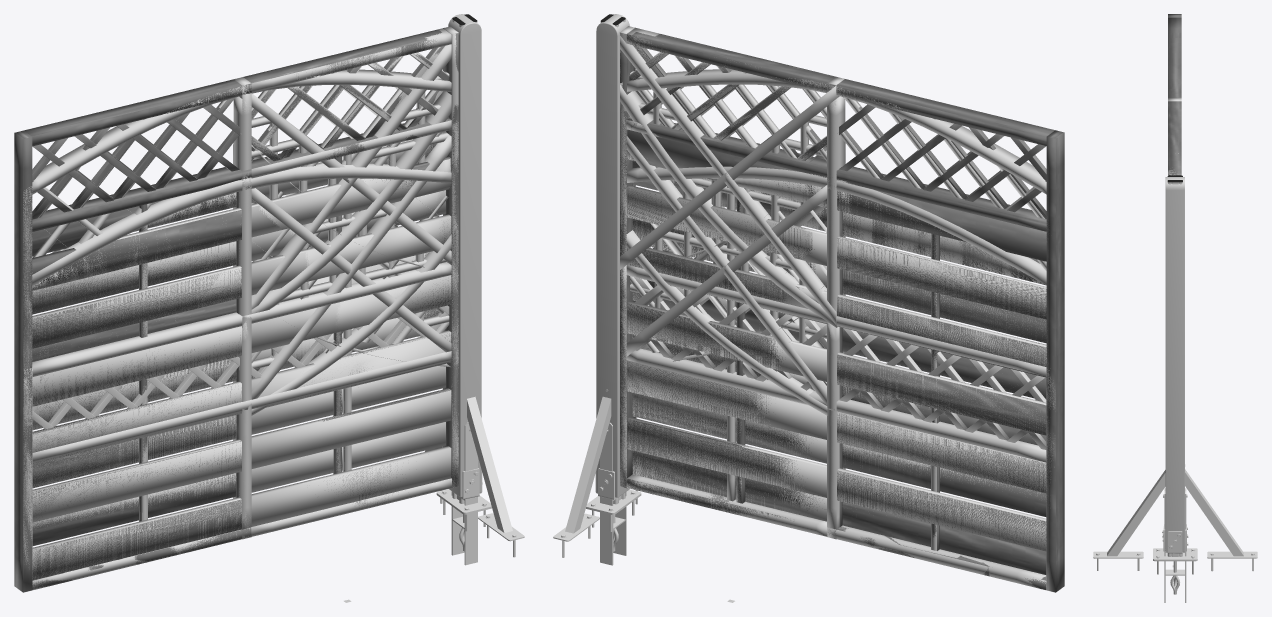
The model's file is mailCombo13.glb.
3 views of the same model, side by side, from view 1: azimuth 30°, elevation 25°; view 2: azimuth 150°, elevation 25°; view 3: azimuth 270°, elevation 25° (orthographic). The views are drawn at different scales.
Parts seen in each view (by area): view 1: Sealing 180x180, Sealing 180x180 kriva, Sealing 90x180, Sealing 180x90, Sealing kosa desna, Sealingkosa leva, stubić Sina, Sealing kosa leva kriva, sturmanker-right-front, Nosač Stubića Sina, Sealing kosa desna kriva, post-root-right; view 2: Sealing 180x180, Sealing 180x180 kriva, Sealing 180x90, Sealing kosa desna, Sealingkosa leva, stubić Sina, Sealing kosa leva kriva, Sealing 90x180, sturmanker-right-rear, Nosač Stubića Sina, Sealing kosa desna kriva, post-root-right; view 3: stubić Sina, Sealing 180x180, sturmanker-right-rear, sturmanker-right-front, Nosač Stubića Sina, post-root-right, NosacBoth.
Part boxes in pixels (box(x1,y1,x2,y2)): Sealing 180x180: box(14, 28, 458, 592); Sealing 180x180 kriva: box(23, 69, 458, 584); Sealing 90x180: box(234, 26, 458, 536); Sealing 180x90: box(23, 262, 458, 589); Sealing kosa desna: box(233, 93, 458, 538); Sealingkosa leva: box(242, 44, 458, 602); stubić Sina: box(448, 14, 481, 497); Sealing kosa leva kriva: box(233, 91, 458, 537); sturmanker-right-front: box(467, 396, 524, 557); Nosač Stubića Sina: box(451, 422, 477, 565); Sealing kosa desna kriva: box(233, 143, 450, 498); post-root-right: box(436, 489, 491, 531); Sealing 180x180: box(620, 27, 1064, 592); Sealing 180x180 kriva: box(620, 69, 1048, 588); Sealing 180x90: box(620, 265, 1055, 589); Sealing kosa desna: box(620, 86, 845, 538); Sealingkosa leva: box(620, 35, 836, 602); stubić Sina: box(596, 14, 629, 497); Sealing kosa leva kriva: box(620, 84, 845, 537); Sealing 90x180: box(620, 26, 844, 538); sturmanker-right-rear: box(553, 389, 611, 557); Nosač Stubića Sina: box(600, 422, 626, 565); Sealing kosa desna kriva: box(628, 133, 845, 469); post-root-right: box(586, 489, 641, 531); stubić Sina: box(1165, 177, 1184, 551); Sealing 180x180: box(1168, 14, 1181, 175); sturmanker-right-rear: box(1185, 464, 1257, 571); sturmanker-right-front: box(1093, 470, 1165, 570); Nosač Stubića Sina: box(1163, 488, 1187, 602); post-root-right: box(1153, 548, 1197, 574); NosacBoth: box(1168, 531, 1182, 587).
Size of the model in its own units: 1.92 by 2.2 by 0.7571.
Materials: 9 (1 with a texture image).
